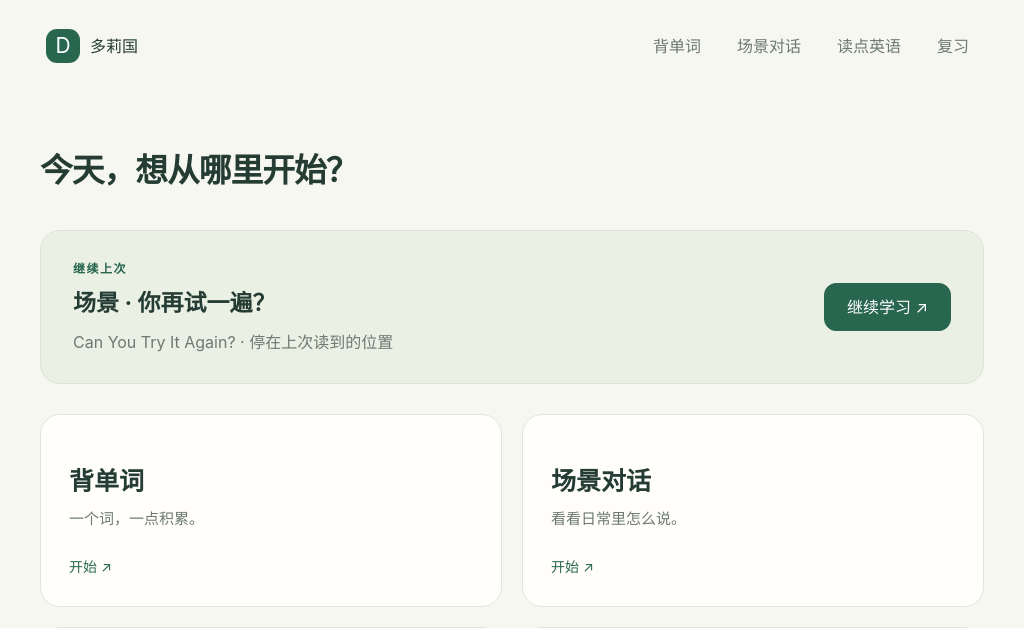
Scenario: opens extension scene scene-try-it-again from home resume
This screenshot has width=1024, height=628.
Click the button "继续学习 ↗": (888, 307) x1=824 y1=283 x2=951 y2=332
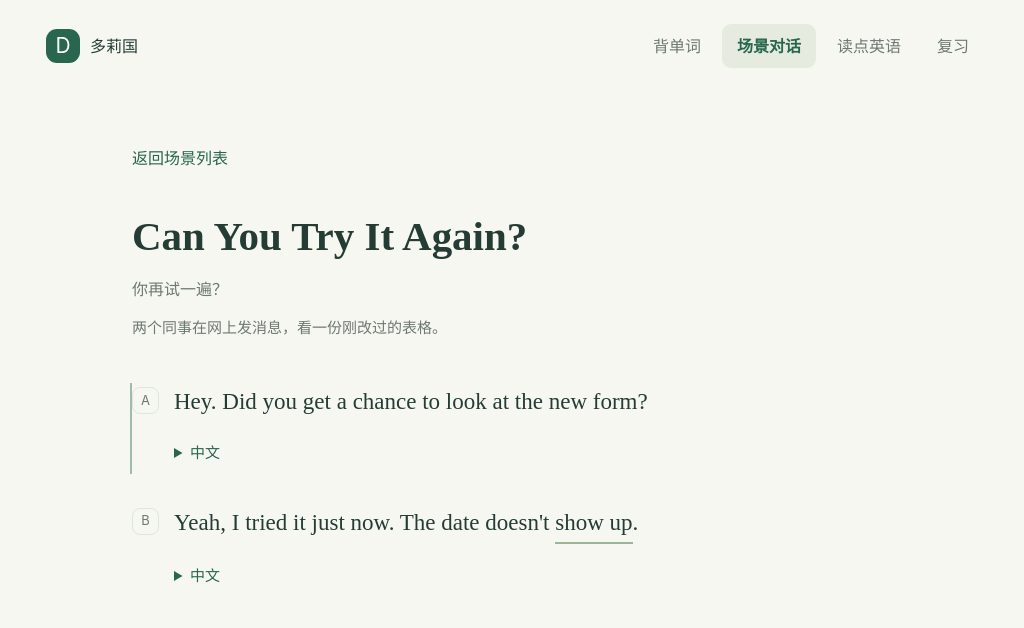
Now the heading "Can You Try It Again?" is shown, box x1=132 y1=213 x2=527 y2=259
